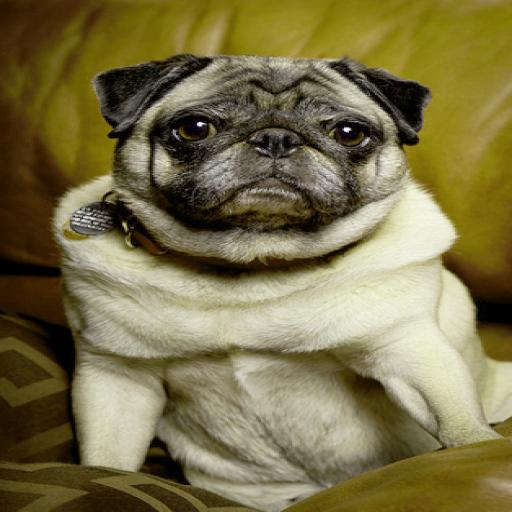dog_face: (91, 49, 432, 228)
